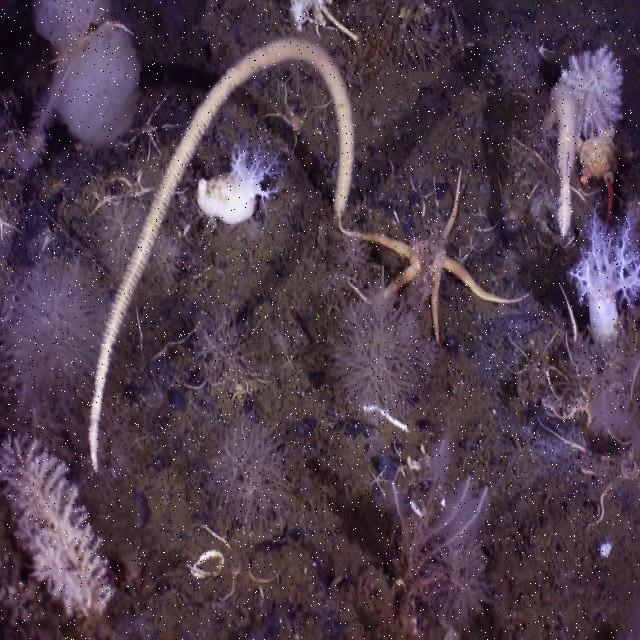reefs: (87, 38, 355, 473), (336, 168, 533, 347), (0, 429, 119, 621), (17, 0, 143, 169), (568, 209, 639, 342), (195, 139, 288, 226), (557, 45, 623, 134), (548, 84, 578, 232), (579, 136, 620, 215), (288, 1, 359, 42)
